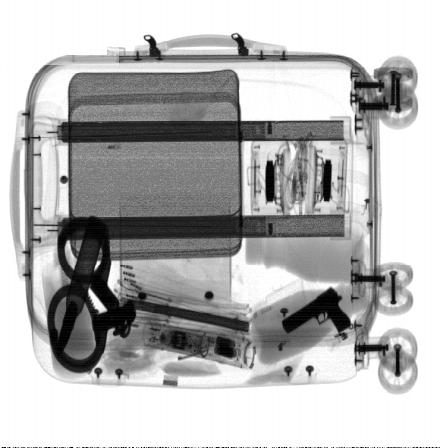Baton: (141, 314, 256, 370)
Bullet: (53, 213, 107, 363)
Gun: (282, 286, 351, 336)
HandCuffs: (46, 214, 137, 372)
